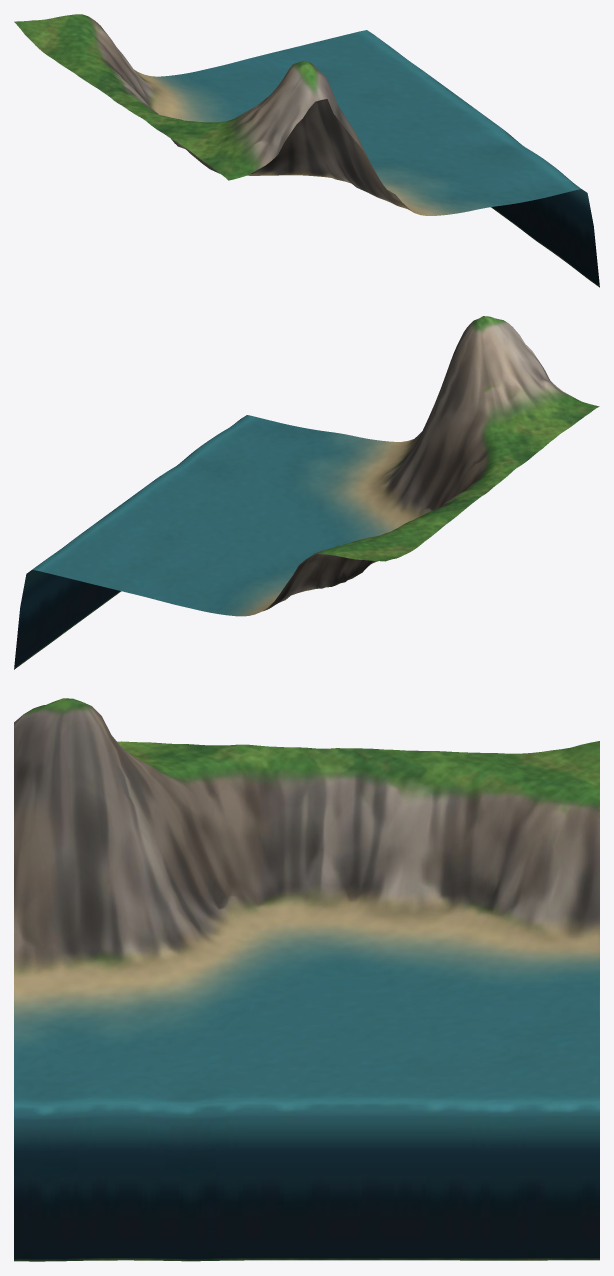
The picture shows the model from 3 angles, top to bottom: view 1: azimuth 30°, elevation 25°; view 2: azimuth 150°, elevation 25°; view 3: azimuth 270°, elevation 25°; orthographic projection. The views are drawn at different scales.
Visible parts, largest first — view 1: t192_128; view 2: t192_128; view 3: t192_128.
Boxes of the visible parts, x1=… form: t192_128: x1=14, y1=14, x2=599, y2=287; t192_128: x1=14, y1=316, x2=599, y2=669; t192_128: x1=14, y1=698, x2=599, y2=1261.
Bounding box in the file's own units: 64 × 45.7 × 64.
1 material, 1 textured.
